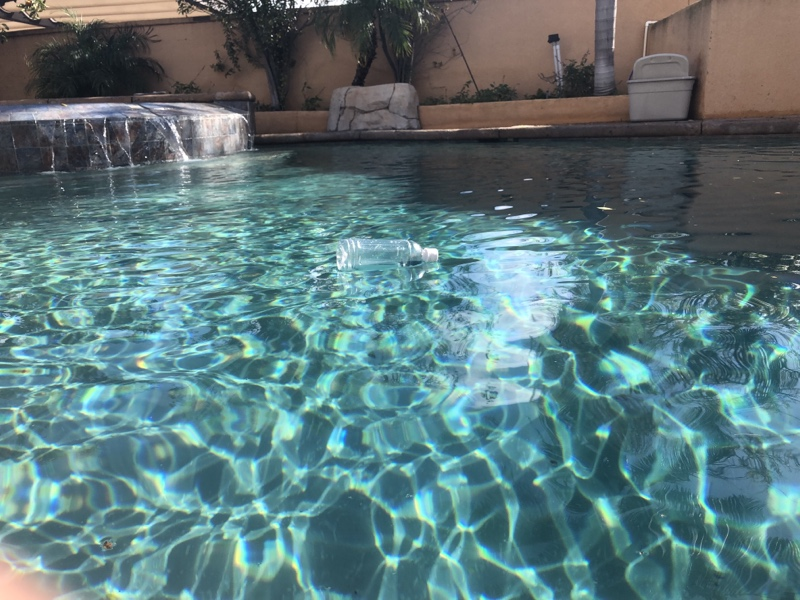Plastic Bottle: (333, 231, 443, 275)
